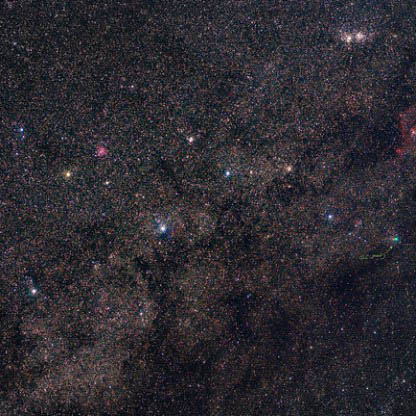Cassiopeia: (53, 156, 115, 199), (316, 202, 350, 242), (215, 154, 254, 186), (148, 215, 180, 248), (21, 269, 48, 304)
